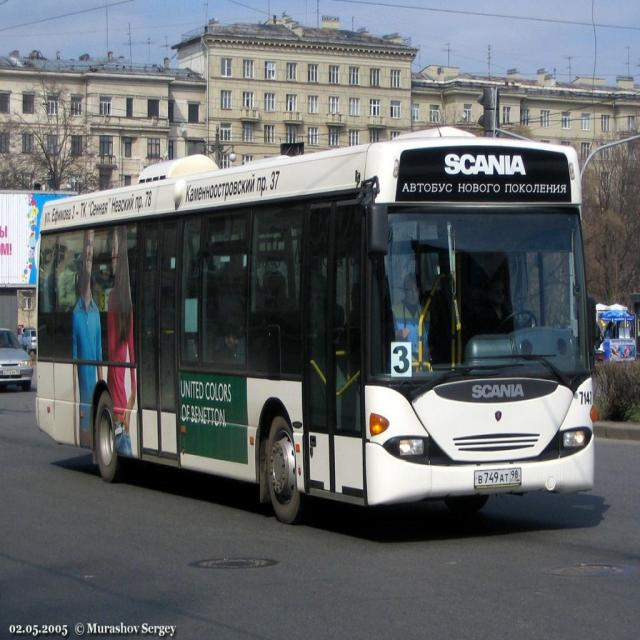number-of-bus: (393, 344, 412, 377)
